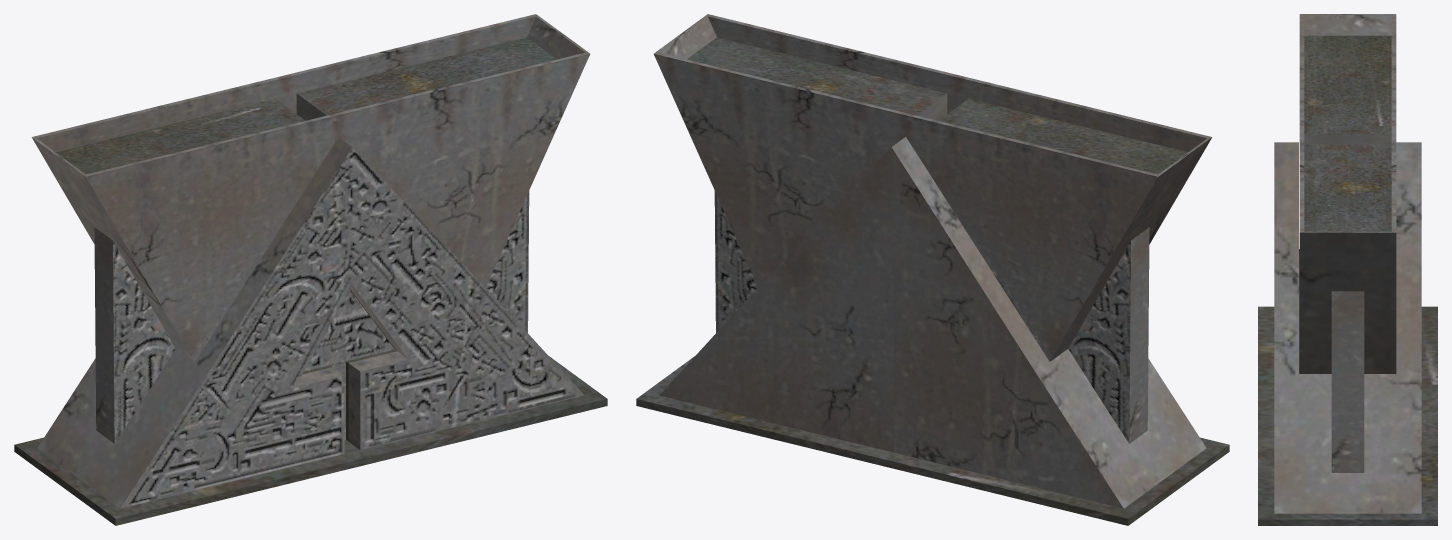
Rendered from atf_sith_altar_l0.fbx.
3 views of the same model, side by side, from view 1: azimuth 30°, elevation 25°; view 2: azimuth 150°, elevation 25°; view 3: azimuth 270°, elevation 25° (orthographic). The views are drawn at different scales.
Parts seen in each view (by area): view 1: mesh_node; view 2: mesh_node; view 3: mesh_node.
Part boxes in pixels (x1=…): mesh_node: x1=14, y1=14, x2=607, y2=525; mesh_node: x1=636, y1=14, x2=1229, y2=525; mesh_node: x1=1258, y1=14, x2=1437, y2=525.
Bounding box in the file's own units: 2.05 × 1.3 × 0.7141.
Materials: 1 (1 with a texture image).
